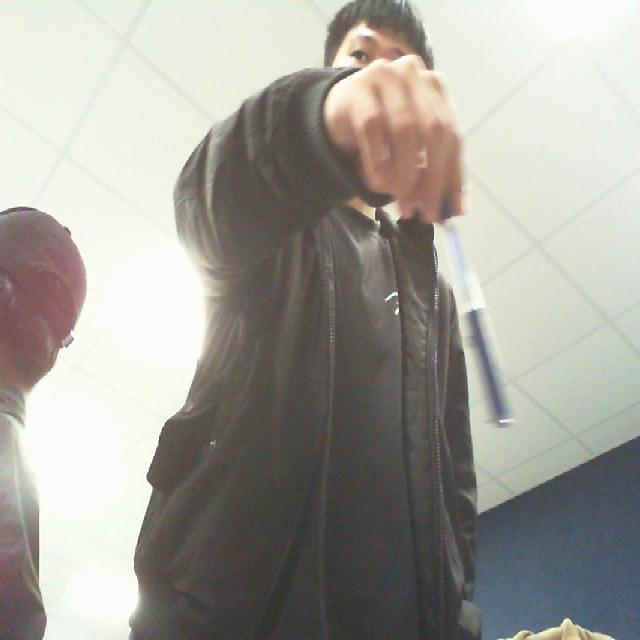Pen: (432, 184, 528, 448)
